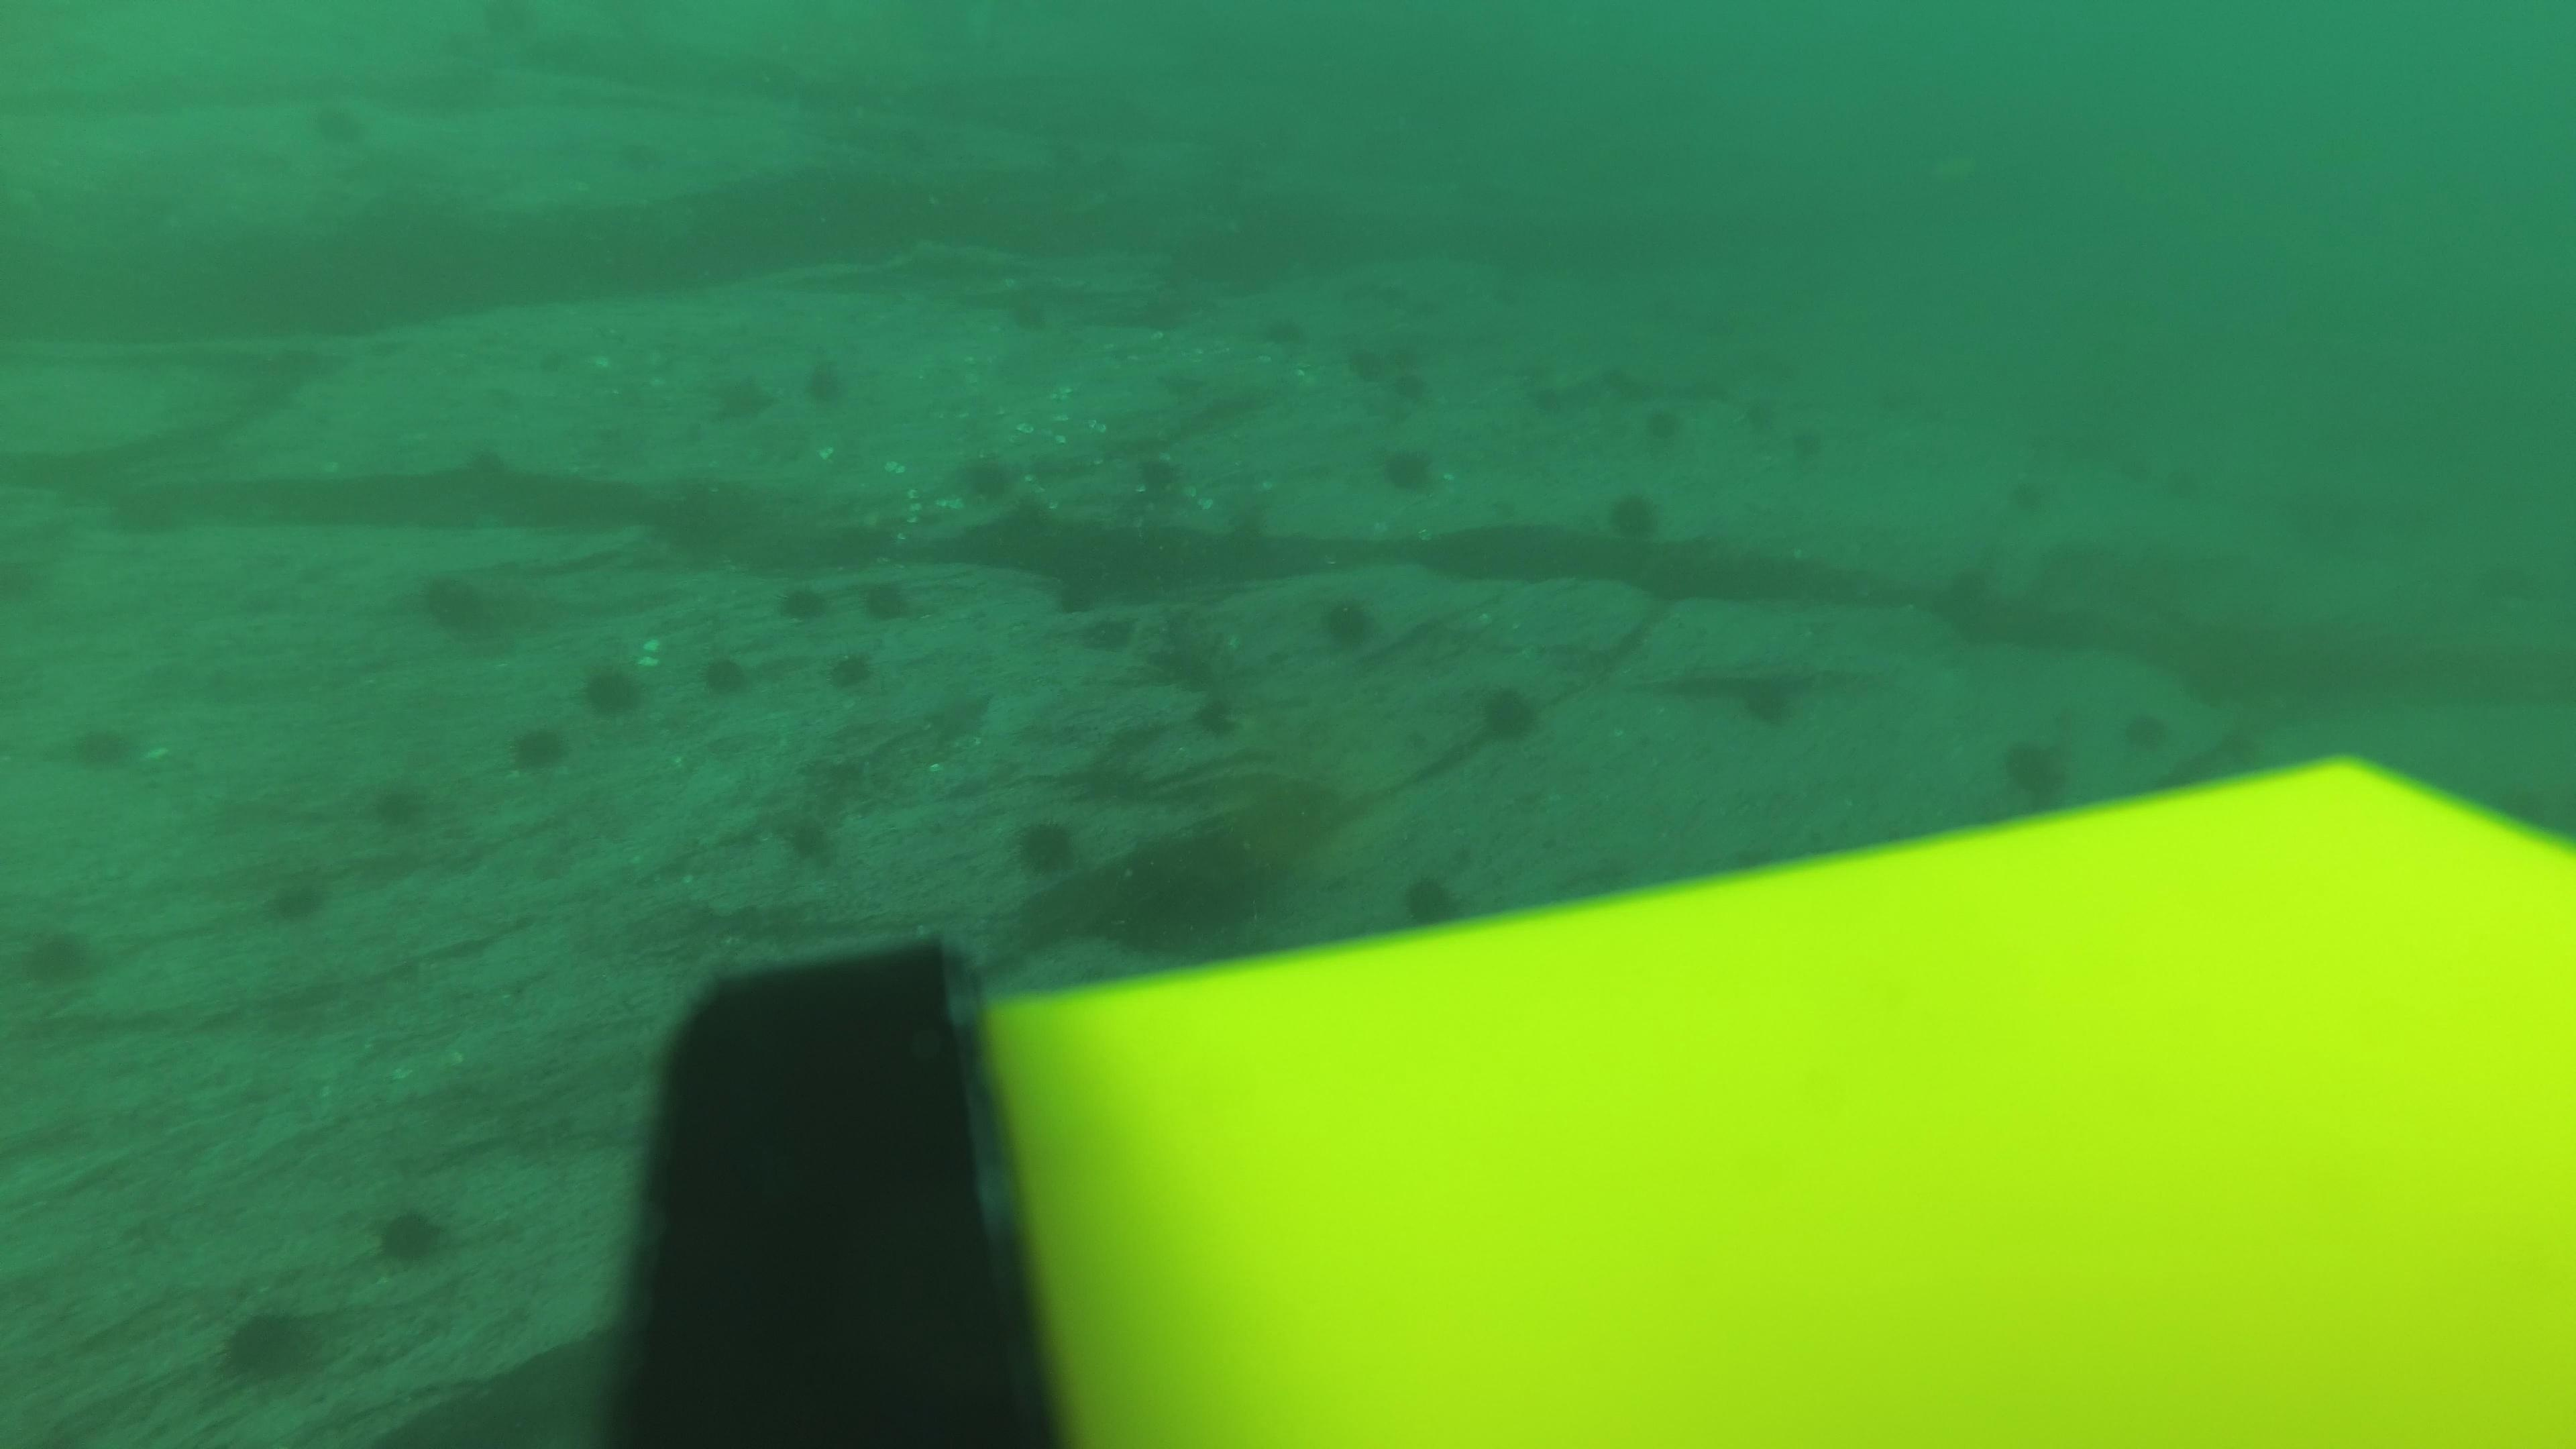echinus: (211, 1299, 327, 1391), (409, 563, 517, 648), (12, 916, 108, 996), (364, 1196, 458, 1274), (1992, 729, 2079, 810), (58, 709, 149, 780), (1005, 810, 1088, 885), (253, 862, 338, 932), (1468, 678, 1548, 750), (1391, 865, 1472, 936), (1729, 663, 1810, 734), (575, 651, 651, 722), (1311, 589, 1385, 658), (948, 448, 1021, 513), (702, 366, 777, 430), (363, 773, 433, 837), (1123, 446, 1192, 510), (1373, 439, 1444, 501), (504, 717, 573, 778), (775, 810, 844, 872), (1599, 485, 1667, 547), (855, 573, 922, 628), (796, 352, 853, 412), (695, 646, 754, 702), (1187, 688, 1246, 743), (773, 577, 833, 630), (2116, 709, 2176, 757), (824, 646, 879, 697), (1047, 570, 1097, 610), (1343, 343, 1391, 382), (1382, 364, 1430, 403), (2001, 478, 2049, 517), (1008, 297, 1054, 336), (1382, 334, 1428, 373), (1263, 311, 1309, 350), (1522, 384, 1568, 423), (1560, 375, 1606, 414), (1644, 403, 1690, 442), (1743, 396, 1789, 435), (1783, 421, 1829, 460), (2118, 449, 2164, 488), (2158, 460, 2204, 499)
starfish: (918, 683, 996, 750), (1152, 364, 1210, 405)
